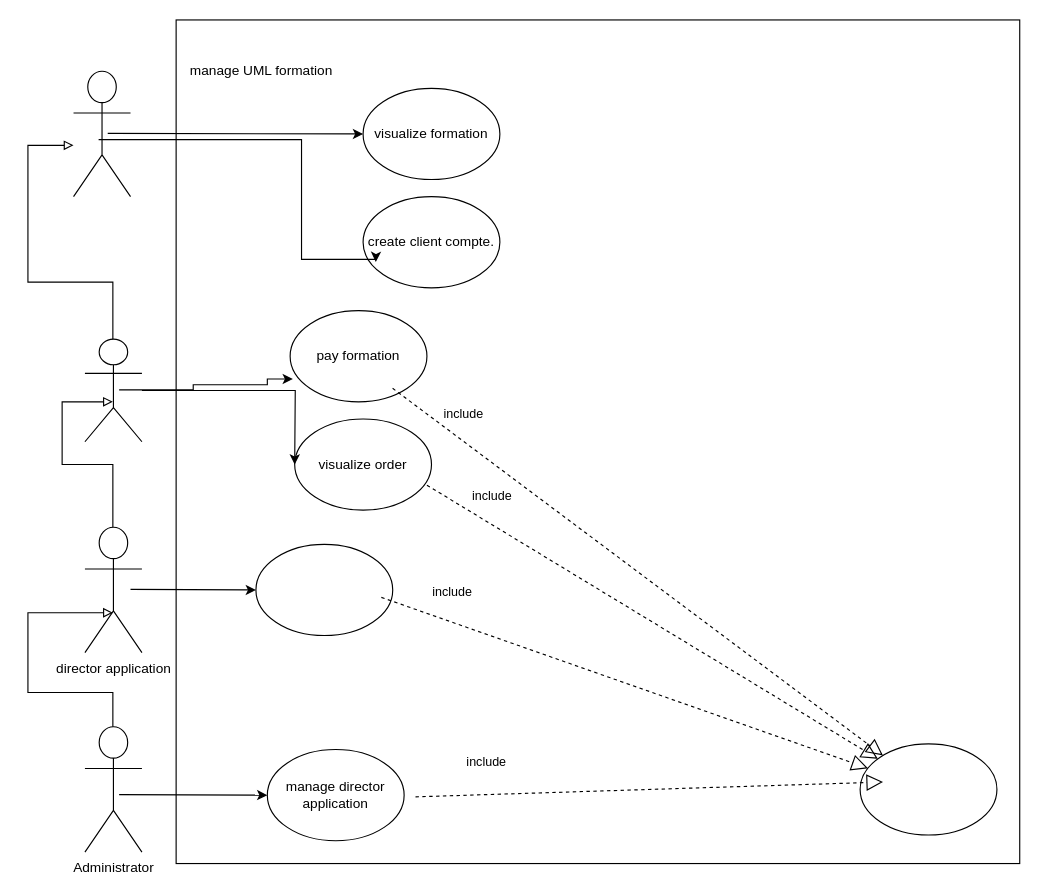
Image size: 1040x896. Some labels were removed from this diagram. Each missing label, with the box of its shape:
Authentification: (859, 743, 997, 835)
Client: (84, 338, 142, 442)
manage formation: (255, 543, 393, 636)
Visitor: (72, 70, 131, 197)
